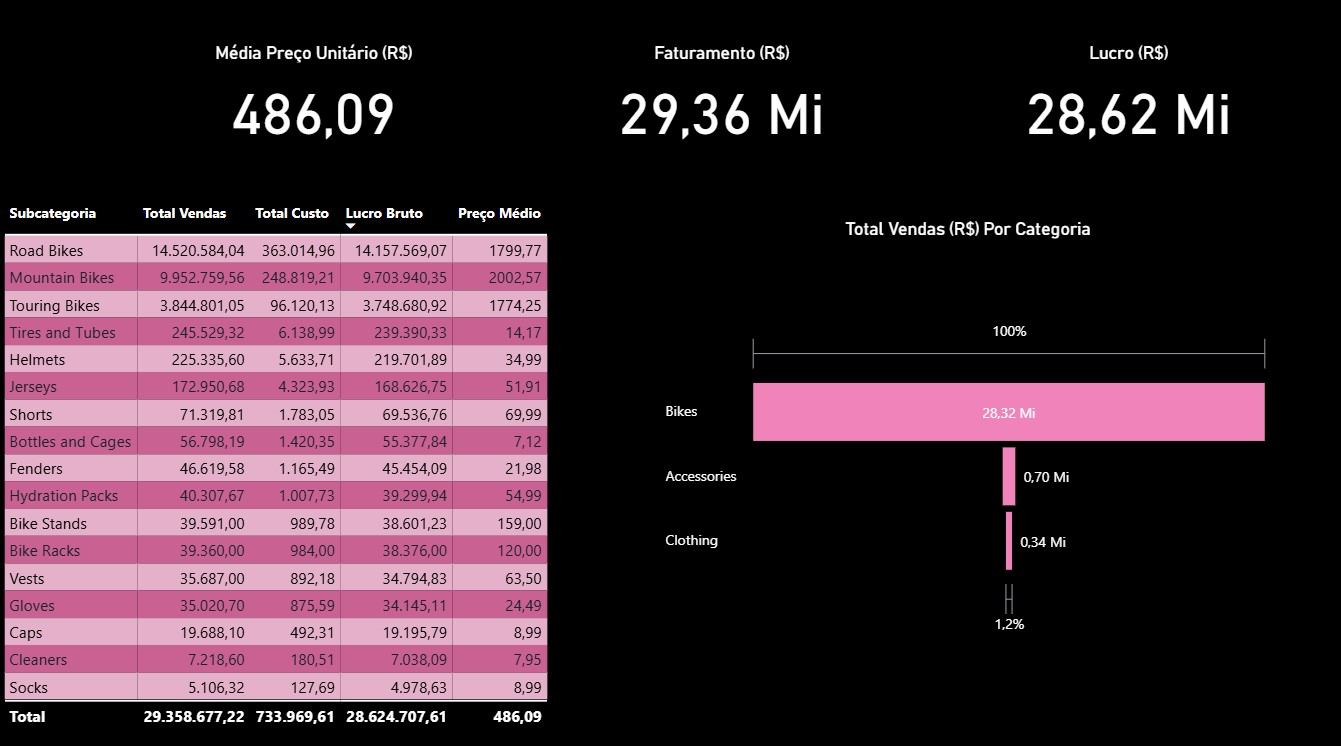

What the dashboard file says about the page in this screenshot:
{"tool":"powerbi","page":{"name":"3. Resumo de Faturamento, Lucro e Preço Médio","canvas":[1280,720],"ordinal":3},"visuals":[{"type":"card","title":"Faturamento (R$)","fields":{"Values":["Medidas.Faturamento"]},"box":[548.2,44,281,104.8],"z":0},{"type":"card","title":"Lucro (R$)","fields":{"Values":["Medidas.Lucro"]},"box":[936.9,44,279.8,104.8],"z":1000},{"type":"card","title":"Média Preço Unitário (R$)","fields":{"Values":["Medidas.MediaPrecoUnit"]},"box":[160.7,44,279.8,104.8],"z":2000},{"type":"tableEx","fields":{"Values":["TB_PRODUTO_SUBCATEGORIA.Nome_Subcategoria","Medidas.TotalVendas","Medidas.TotalCusto","Medidas.Lucro","Medidas.MediaPrecoUnit"]},"box":[0,189.3,600,516.7],"z":3000},{"type":"funnel","title":"Total Vendas (R$) Por Categoria","fields":{"Y":["Medidas.TotalVendas"],"Category":["TB_PRODUTO_CATEGORIA.Nome_Categoria"]},"box":[631,211.9,585.7,471.4],"z":4000}]}

Visuals, with their boxes in screenshot pixels (x1, y1, x2, y2), scaled from the page's 1280x720 canvas onto the 1341x746 screenshot:
"Faturamento (R$)" card: box(574, 46, 869, 154)
"Lucro (R$)" card: box(982, 46, 1275, 154)
"Média Preço Unitário (R$)" card: box(168, 46, 461, 154)
tableEx - TB_PRODUTO_SUBCATEGORIA.Nome_Subcategoria x Medidas.TotalVendas: box(0, 196, 629, 731)
"Total Vendas (R$) Por Categoria" funnel: box(661, 220, 1275, 708)
